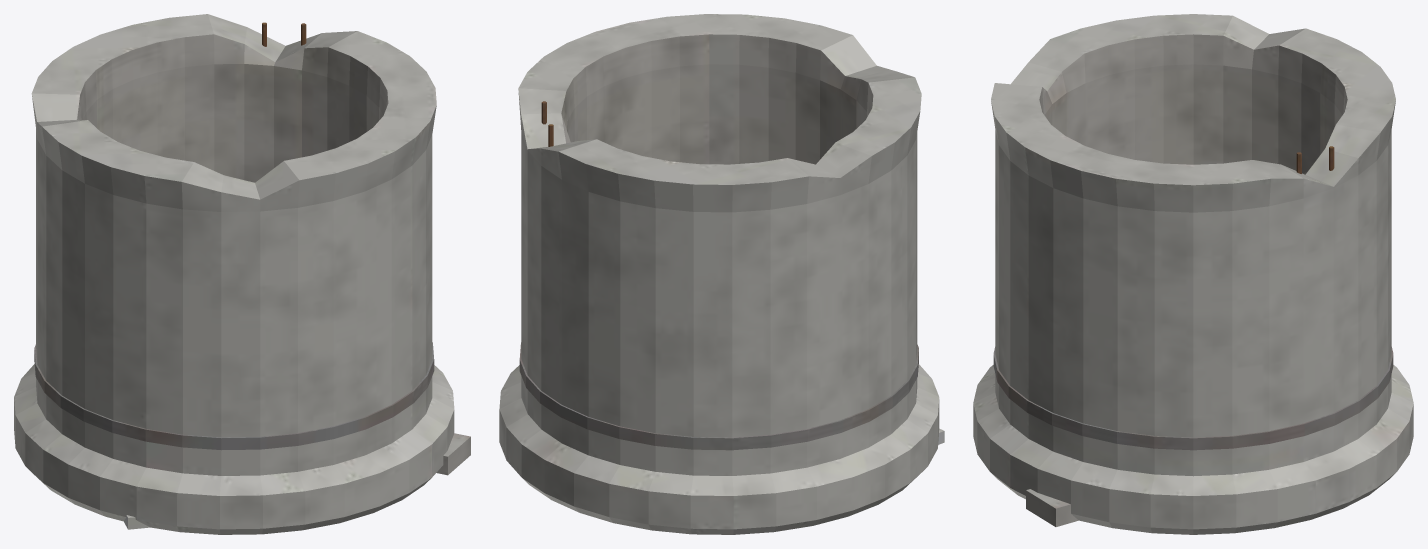
File: CS19_concrete_pipes_v2.glb
3 views of the same model, side by side, from view 1: azimuth 30°, elevation 25°; view 2: azimuth 150°, elevation 25°; view 3: azimuth 270°, elevation 25° (orthographic).
Visible parts, largest first — view 1: Upright damaged concrete sleeve; view 2: Upright damaged concrete sleeve; view 3: Upright damaged concrete sleeve.
Boxes of the visible parts, left/top/right/bottom form: Upright damaged concrete sleeve: left=14, top=14, right=470, bottom=534; Upright damaged concrete sleeve: left=499, top=14, right=944, bottom=534; Upright damaged concrete sleeve: left=973, top=14, right=1413, bottom=534.
Size of the model in its own units: 1.5 by 1.32 by 1.5.
Materials: 4 (4 with a texture image).
